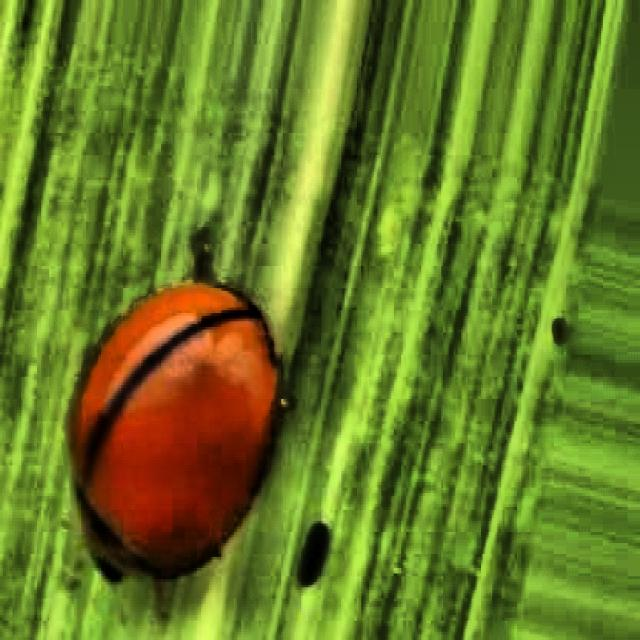Ladybug: (41, 257, 292, 603)
